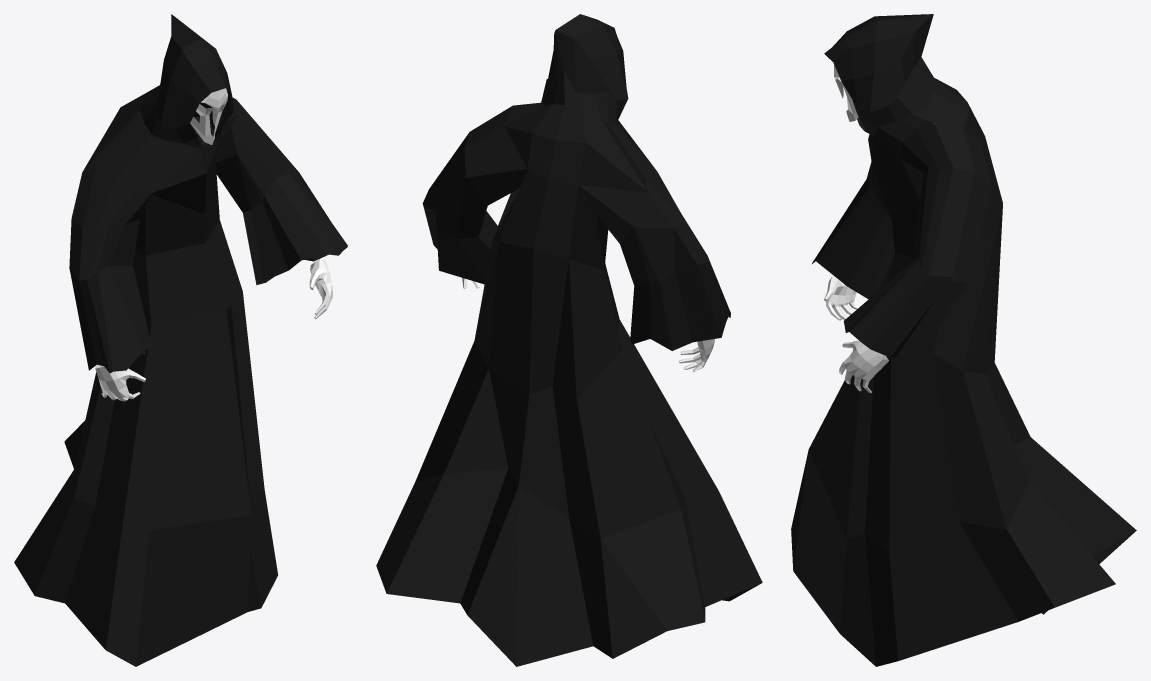
File: ReaperWalk(41).obj
3 views of the same model, side by side, from view 1: azimuth 30°, elevation 25°; view 2: azimuth 150°, elevation 25°; view 3: azimuth 270°, elevation 25° (orthographic). The views are drawn at different scales.
Visible parts, largest first — view 1: Plane003; view 2: Plane003; view 3: Plane003.
Part boxes in pixels (box(x1,y1,x2,y2)): Plane003: box(14, 14, 347, 666); Plane003: box(376, 14, 762, 666); Plane003: box(791, 14, 1136, 666).
Size of the model in its own units: 110 by 218 by 110.
